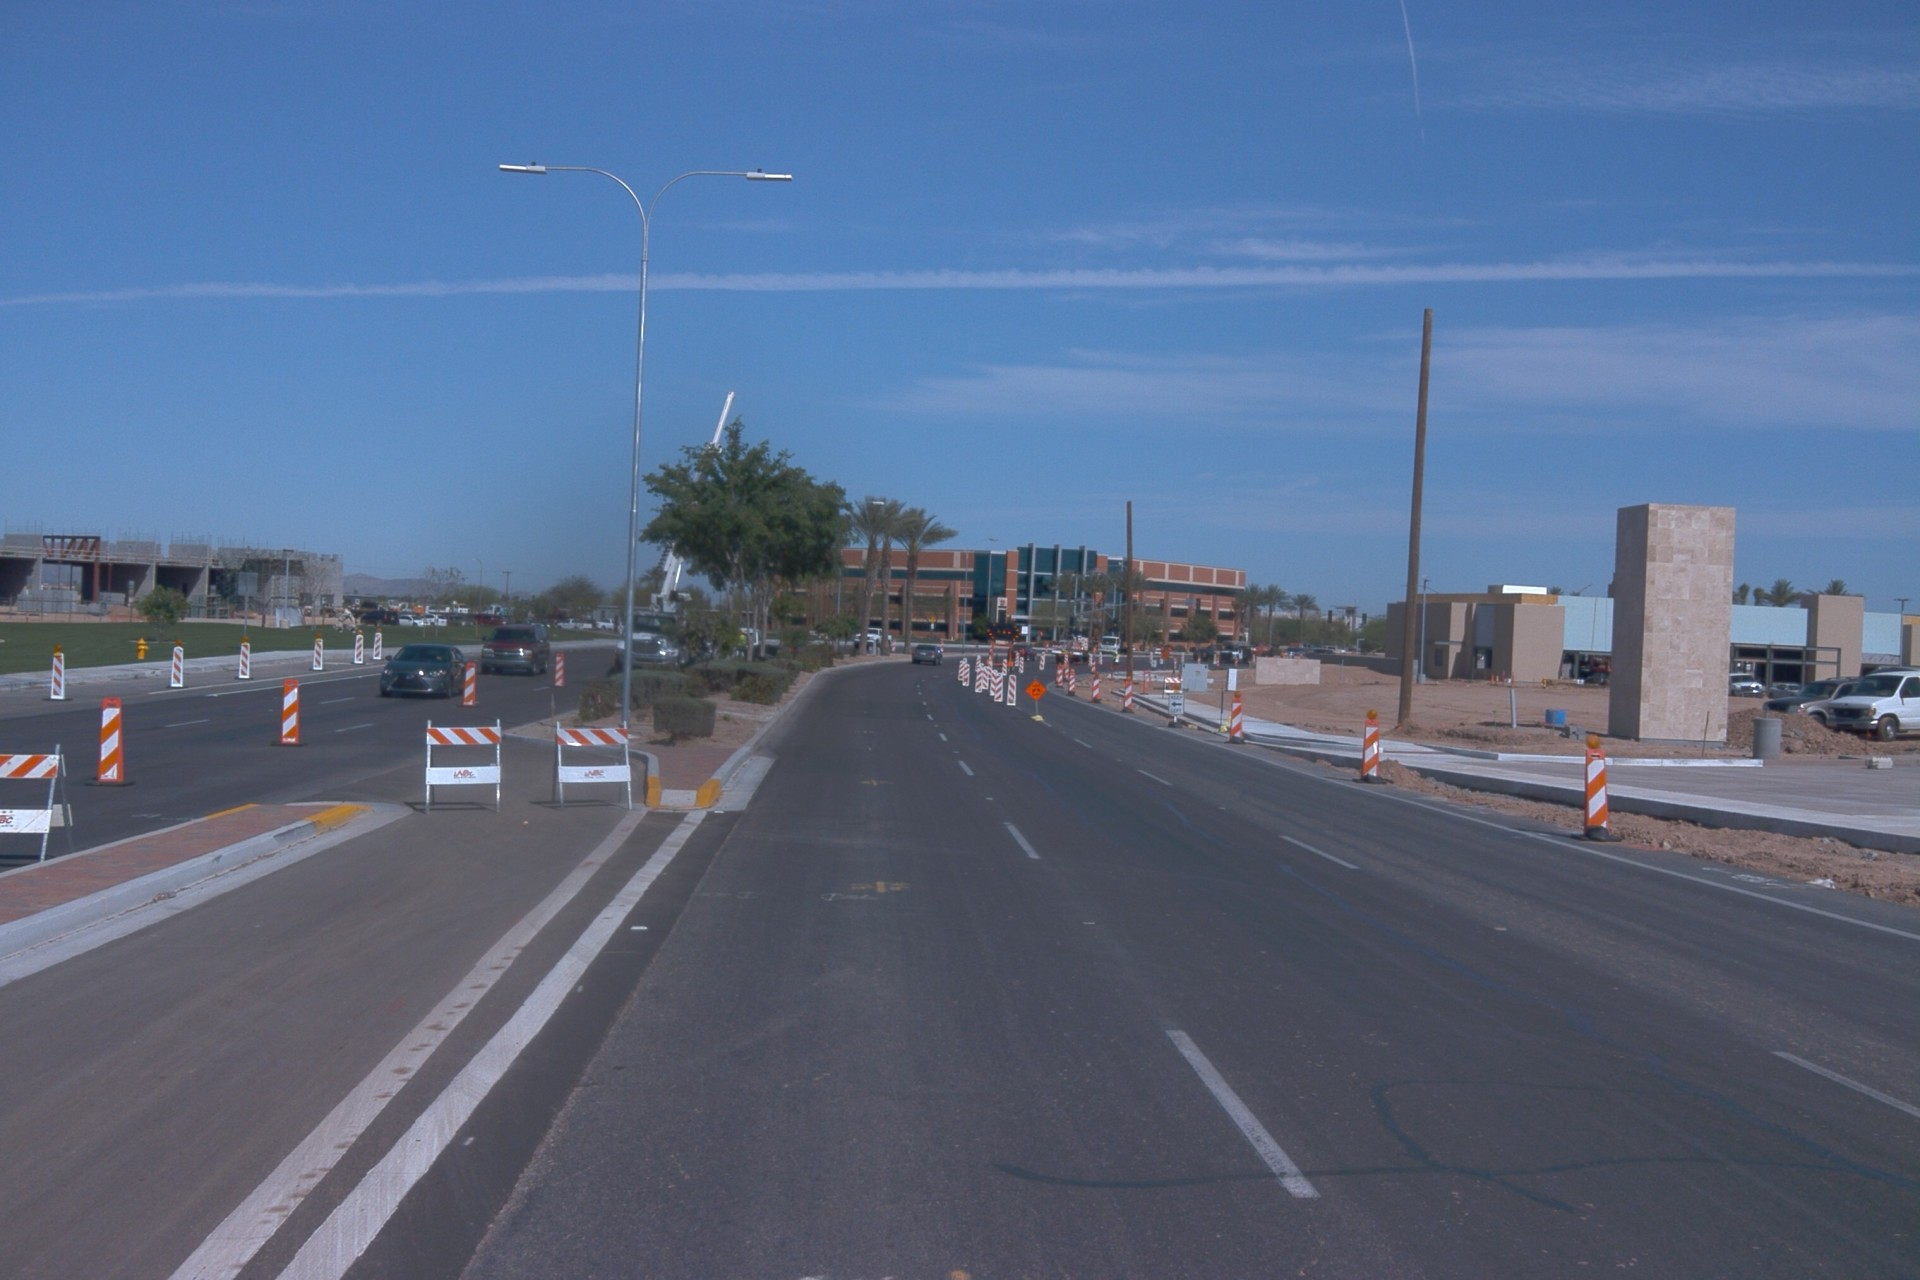TYPE_PEDESTRIAN: (736, 630, 750, 659), (1113, 647, 1119, 664)
TYPE_VEHICLE: (599, 379, 749, 684), (1825, 665, 1920, 743), (1760, 675, 1870, 729), (377, 646, 471, 699), (476, 623, 552, 680), (982, 623, 1026, 677), (1050, 632, 1104, 670), (1217, 642, 1276, 668), (1726, 667, 1768, 701), (850, 628, 895, 653), (733, 626, 768, 658), (470, 613, 514, 632), (1095, 633, 1128, 658), (358, 613, 401, 632), (911, 644, 944, 668), (346, 601, 391, 618), (554, 617, 595, 635), (1006, 640, 1038, 663), (444, 611, 476, 630), (395, 614, 432, 630), (422, 612, 450, 628), (1282, 648, 1307, 661)
